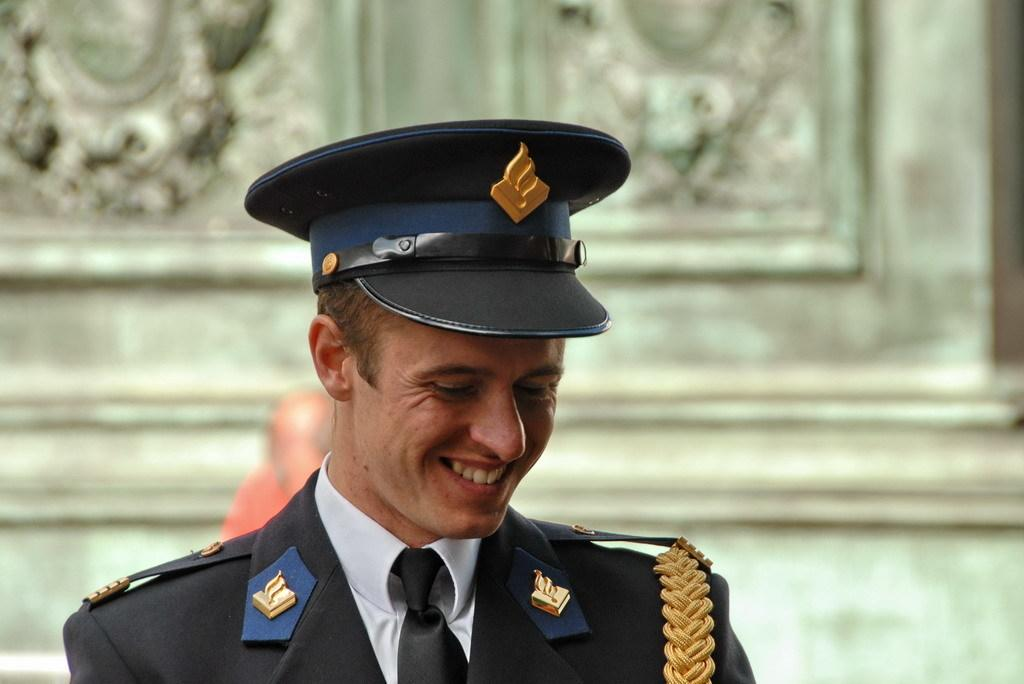Hat: (242, 114, 634, 338)
